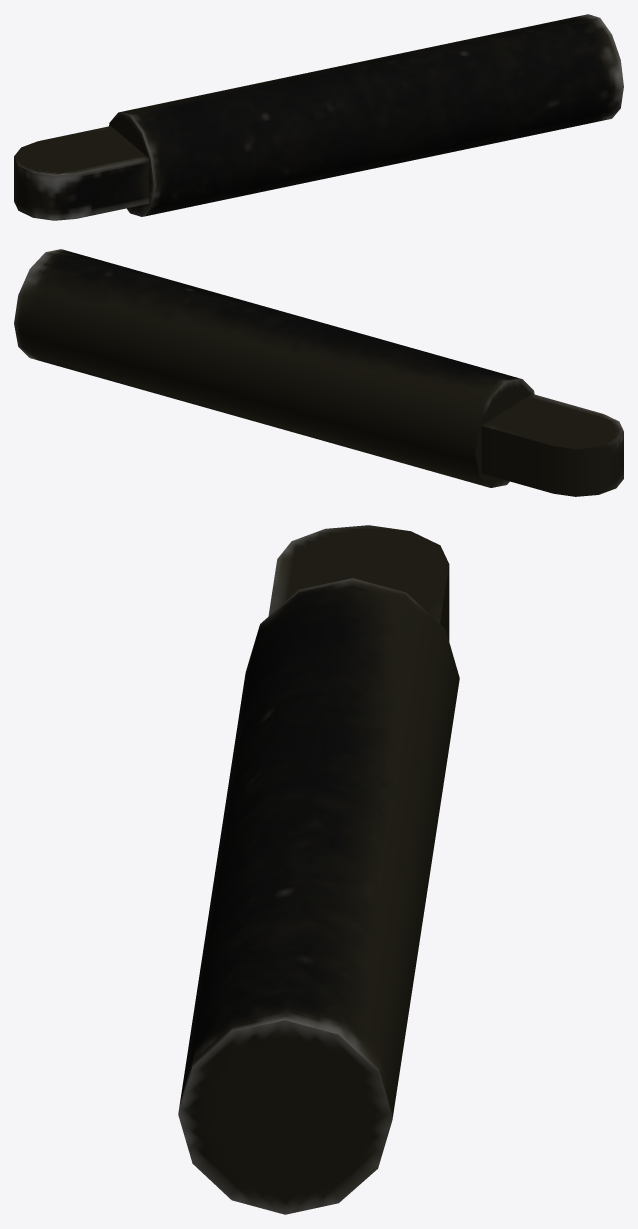
Rendered from stick_cyl_barrel.obj.
The picture shows the model from 3 angles, top to bottom: view 1: azimuth 30°, elevation 25°; view 2: azimuth 150°, elevation 25°; view 3: azimuth 270°, elevation 25°; orthographic projection. The views are drawn at different scales.
Visible parts, largest first — view 1: Piston.008; view 2: Piston.008; view 3: Piston.008.
Part boxes in pixels (bbox=[...]): Piston.008: bbox=[14, 14, 623, 220]; Piston.008: bbox=[14, 249, 623, 496]; Piston.008: bbox=[178, 525, 459, 1214].
Bounding box in the file's own units: 0.7258 × 0.1197 × 0.157.
Materials: 1 (1 with a texture image).
